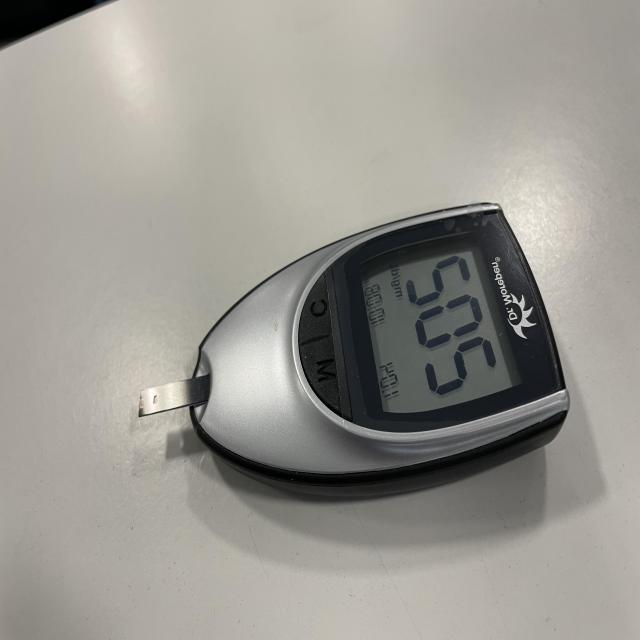gluco: (144, 203, 570, 498)
